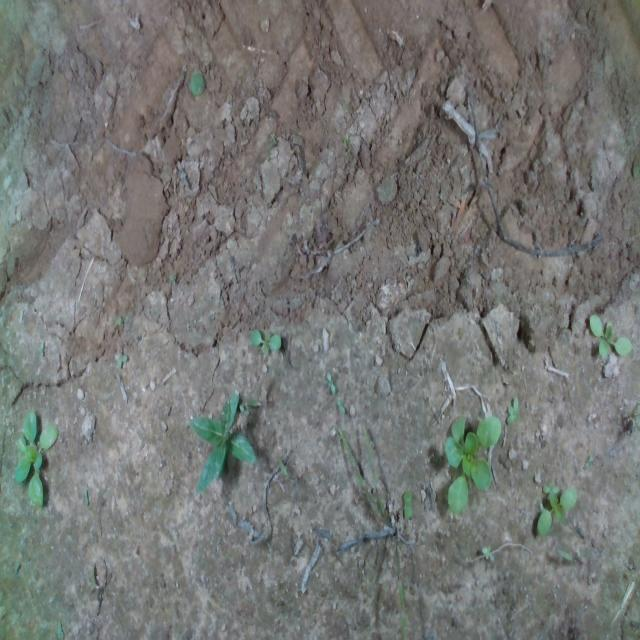weed: (588, 312, 632, 358), (250, 327, 282, 356), (505, 394, 521, 425), (113, 345, 127, 368), (402, 487, 412, 518), (481, 542, 494, 562), (326, 370, 335, 394), (335, 396, 345, 414)
